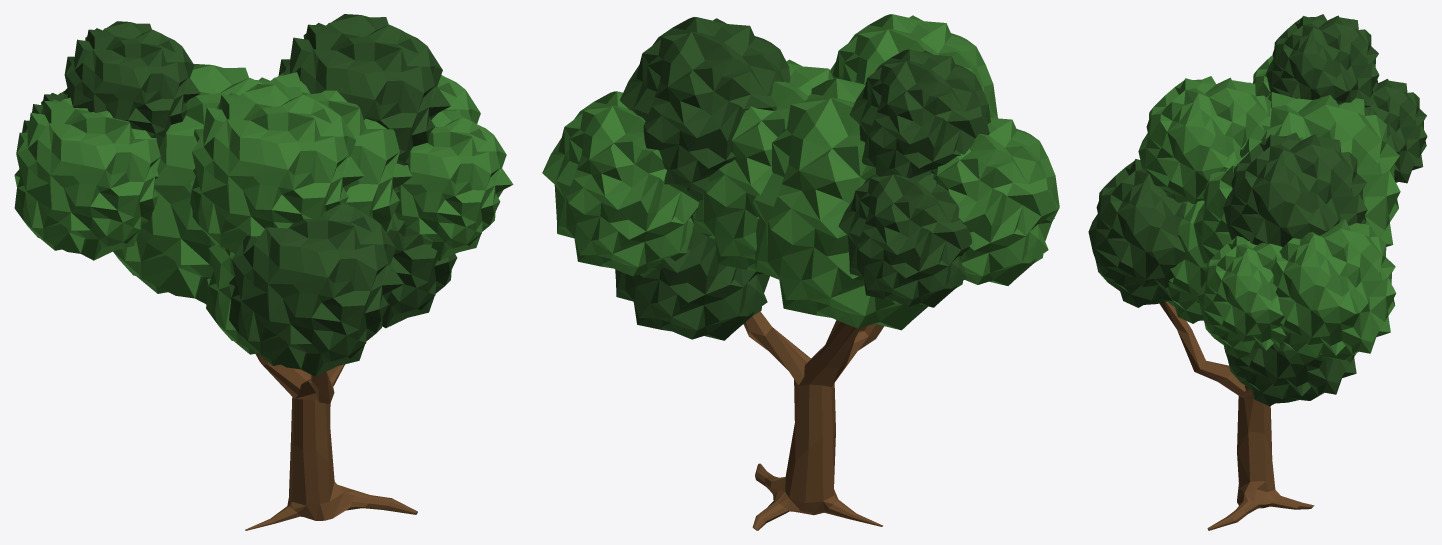
Rendered from folliage2.glb.
The picture shows the model from 3 angles, left to right: view 1: azimuth 30°, elevation 25°; view 2: azimuth 150°, elevation 25°; view 3: azimuth 270°, elevation 25°; orthographic projection. The views are drawn at different scales.
Parts seen in each view (by area): view 1: LowPoly Tree 07.009; view 2: LowPoly Tree 07.009; view 3: LowPoly Tree 07.009.
Part boxes in pixels (x1,y1,x2,y2): LowPoly Tree 07.009: (14,14,513,530); LowPoly Tree 07.009: (542,14,1059,530); LowPoly Tree 07.009: (1088,14,1427,530).
Bounding box in the file's own units: 2.35 × 2.4 × 1.75.
